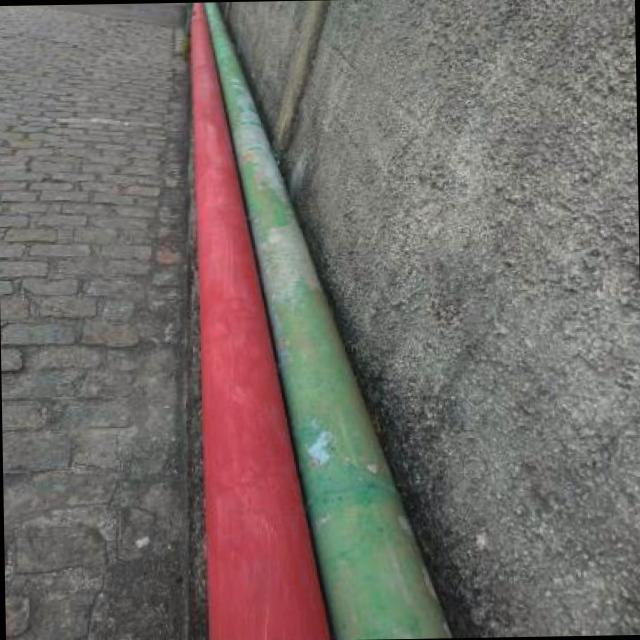gas: (206, 2, 453, 640), (191, 2, 333, 640)
